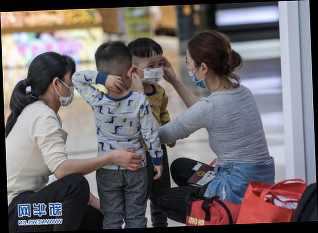with_mask: (138, 58, 165, 85), (185, 55, 203, 91), (58, 72, 75, 108)
